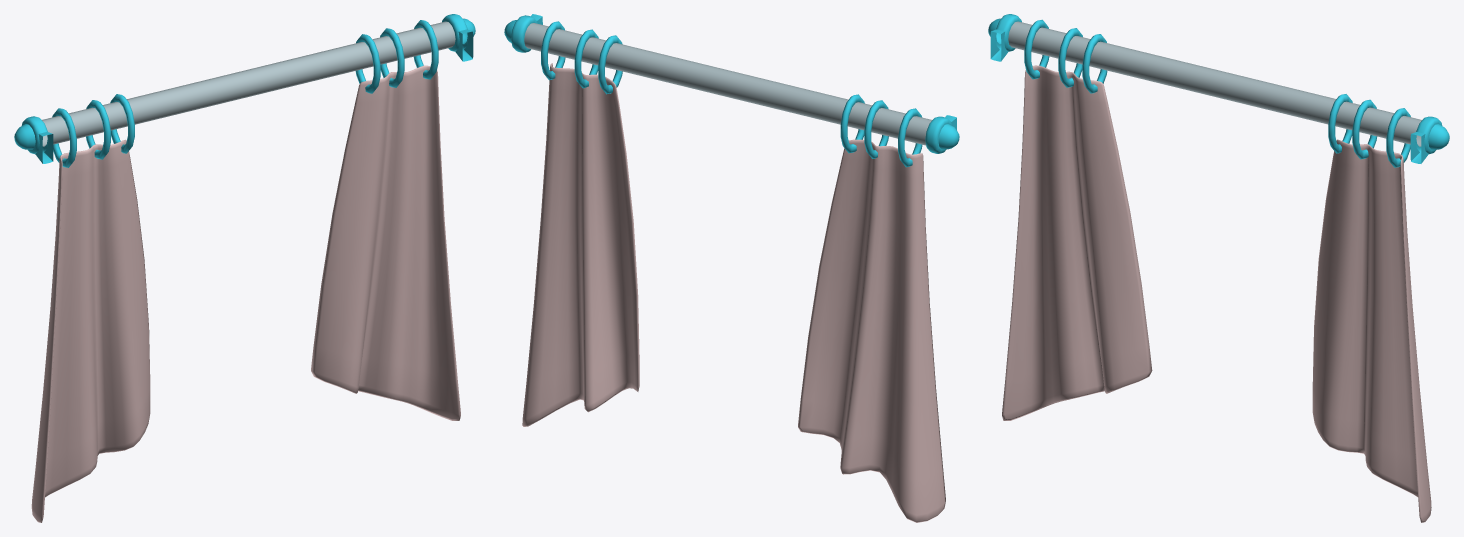
Rendered from Curtains.FBX.
The picture shows the model from 3 angles, left to right: view 1: azimuth 30°, elevation 25°; view 2: azimuth 150°, elevation 25°; view 3: azimuth 330°, elevation 25°; orthographic projection.
Visible parts, largest first — view 1: Curtains; view 2: Curtains; view 3: Curtains.
Part boxes in pixels (left/top/right/bottom): Curtains: left=14, top=14, right=475, bottom=522; Curtains: left=504, top=14, right=959, bottom=522; Curtains: left=988, top=14, right=1449, bottom=522.
Bounding box in the file's own units: 29.63 × 25.15 × 3.49.
